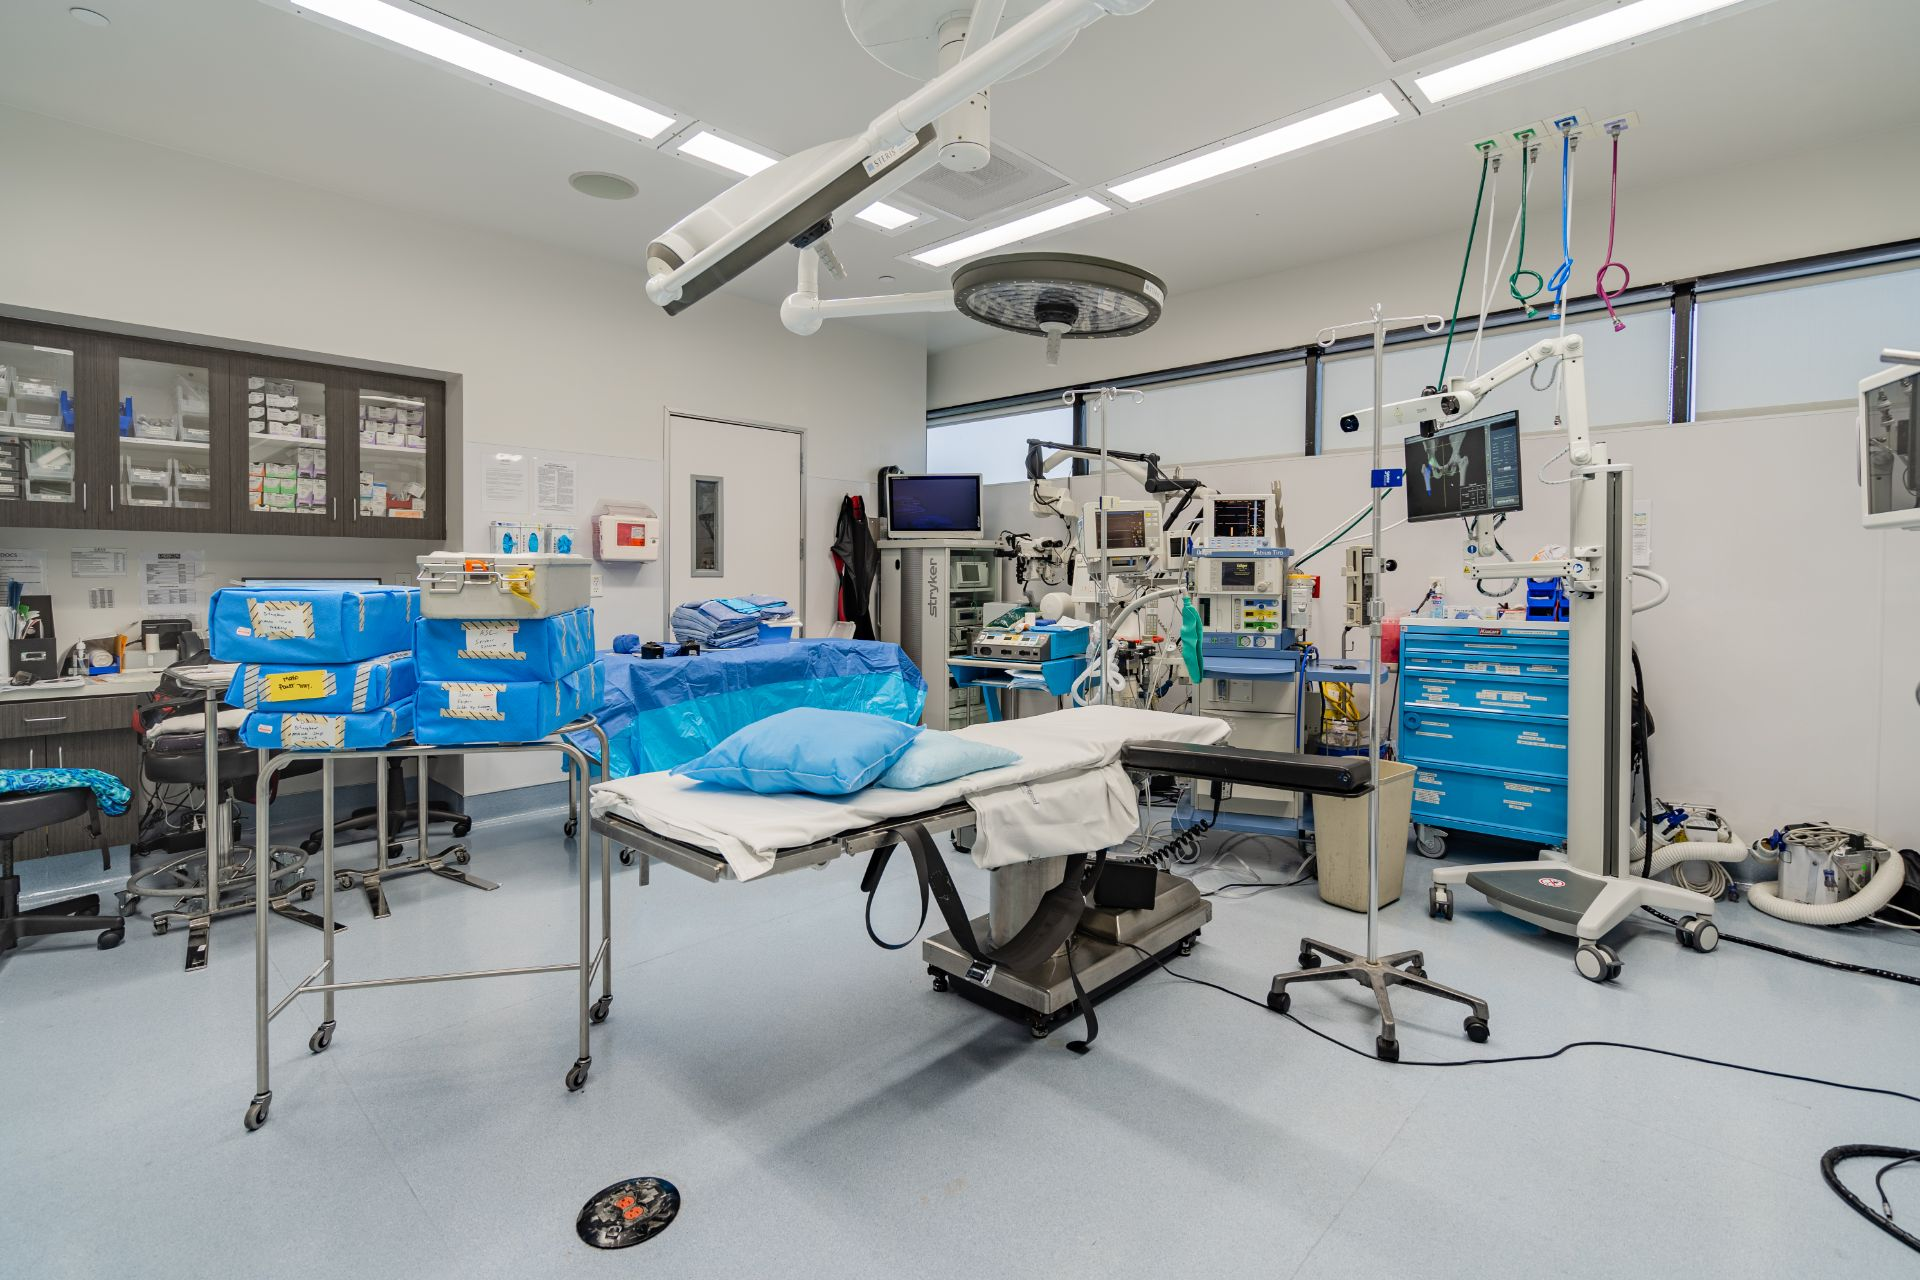bedside_monitor: (1400, 406, 1527, 520), (1846, 371, 1917, 514), (889, 471, 981, 539), (1094, 503, 1159, 554), (1209, 494, 1271, 546), (1213, 563, 1266, 591)
cabinet: (1, 333, 460, 541)
counter: (6, 633, 246, 849)
countertop: (11, 649, 201, 694)
dispenser: (490, 517, 574, 560), (70, 636, 94, 676)
electrosurgical_unit: (969, 621, 1086, 666)
handle: (29, 714, 71, 727), (107, 486, 117, 513), (81, 486, 91, 510), (331, 497, 341, 521), (353, 499, 361, 521), (29, 749, 36, 770), (59, 747, 64, 769)
iv_pole: (1266, 300, 1491, 1066), (1060, 384, 1144, 727)
medical_drawer: (1394, 609, 1599, 859)
operating_bed: (586, 701, 1373, 1060)
surgical_light: (930, 220, 1186, 369)
utility_cart: (249, 729, 609, 1129)
waste_bin: (1321, 749, 1413, 906)
